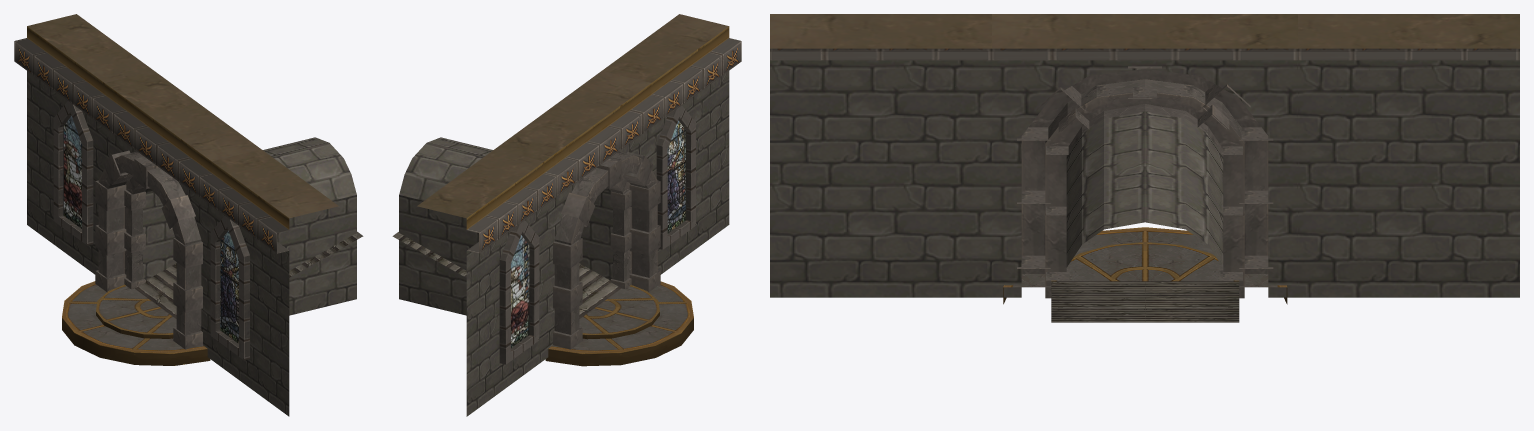
The model's file is Battle06_Wall_013.FBX.
3 views of the same model, side by side, from view 1: azimuth 30°, elevation 25°; view 2: azimuth 150°, elevation 25°; view 3: azimuth 270°, elevation 25° (orthographic). The views are drawn at different scales.
Visible parts, largest first — view 1: Battle06_Wall_013; view 2: Battle06_Wall_013; view 3: Battle06_Wall_013.
Part boxes in pixels (x1=…): Battle06_Wall_013: x1=14, y1=14, x2=363, y2=416; Battle06_Wall_013: x1=392, y1=14, x2=741, y2=416; Battle06_Wall_013: x1=770, y1=14, x2=1519, y2=322.
Size of the model in its own units: 12.5 by 9.46 by 22.19.
